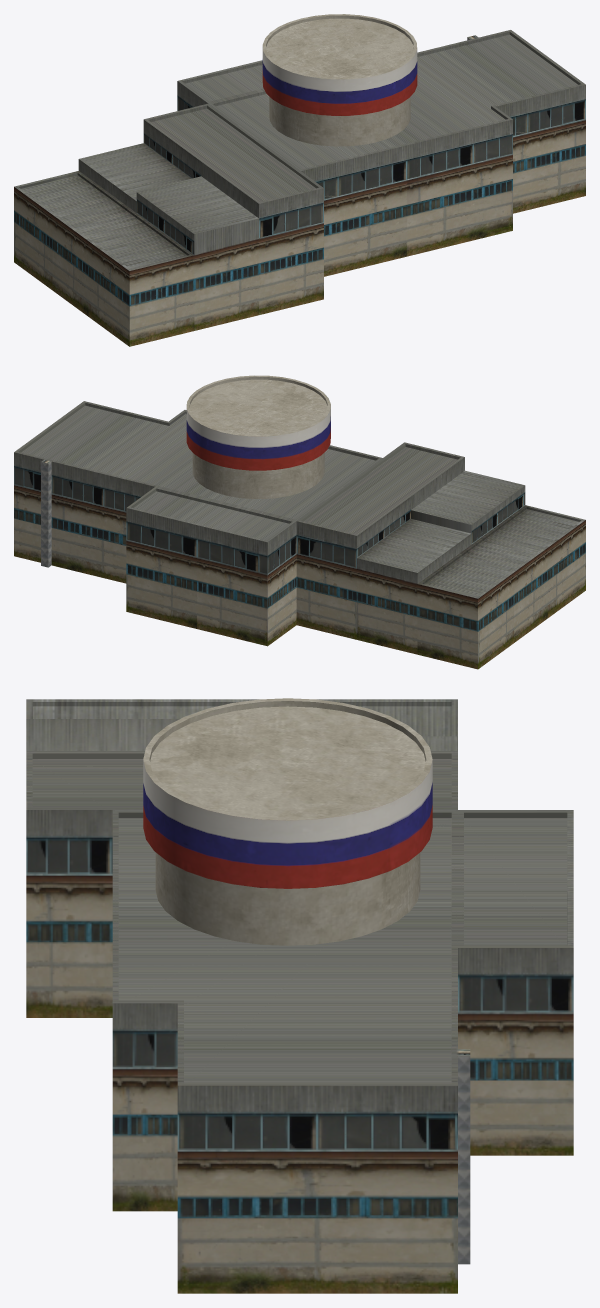
Rendered from EnergyStationMain.fbx.
The picture shows the model from 3 angles, top to bottom: view 1: azimuth 30°, elevation 25°; view 2: azimuth 150°, elevation 25°; view 3: azimuth 270°, elevation 25°; orthographic projection. The views are drawn at different scales.
Parts seen in each view (by area): view 1: BuildingStatic; view 2: BuildingStatic; view 3: BuildingStatic.
Boxes of the visible parts, <box> form: BuildingStatic: <box>14,14,585,346</box>; BuildingStatic: <box>14,375,585,669</box>; BuildingStatic: <box>26,698,573,1293</box>.
Size of the model in its own units: 8696 by 3016 by 4438.
1 material, 1 textured.
